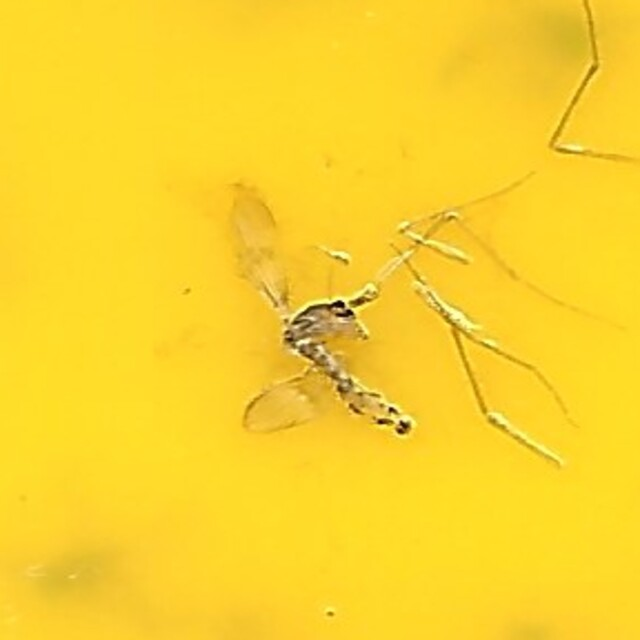Nematocera: (222, 188, 418, 452)
